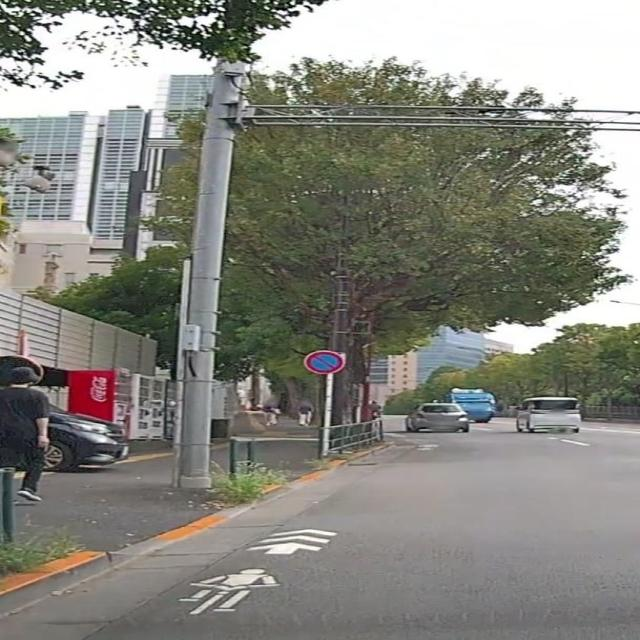maple: (109, 54, 640, 446)
